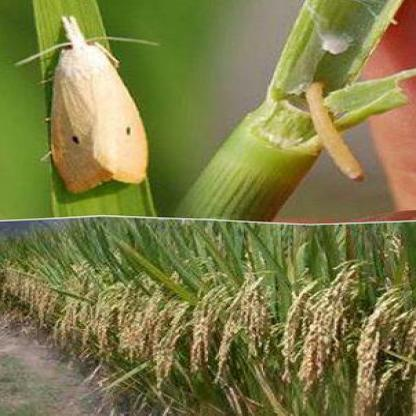stem-borer: (20, 13, 152, 196)
